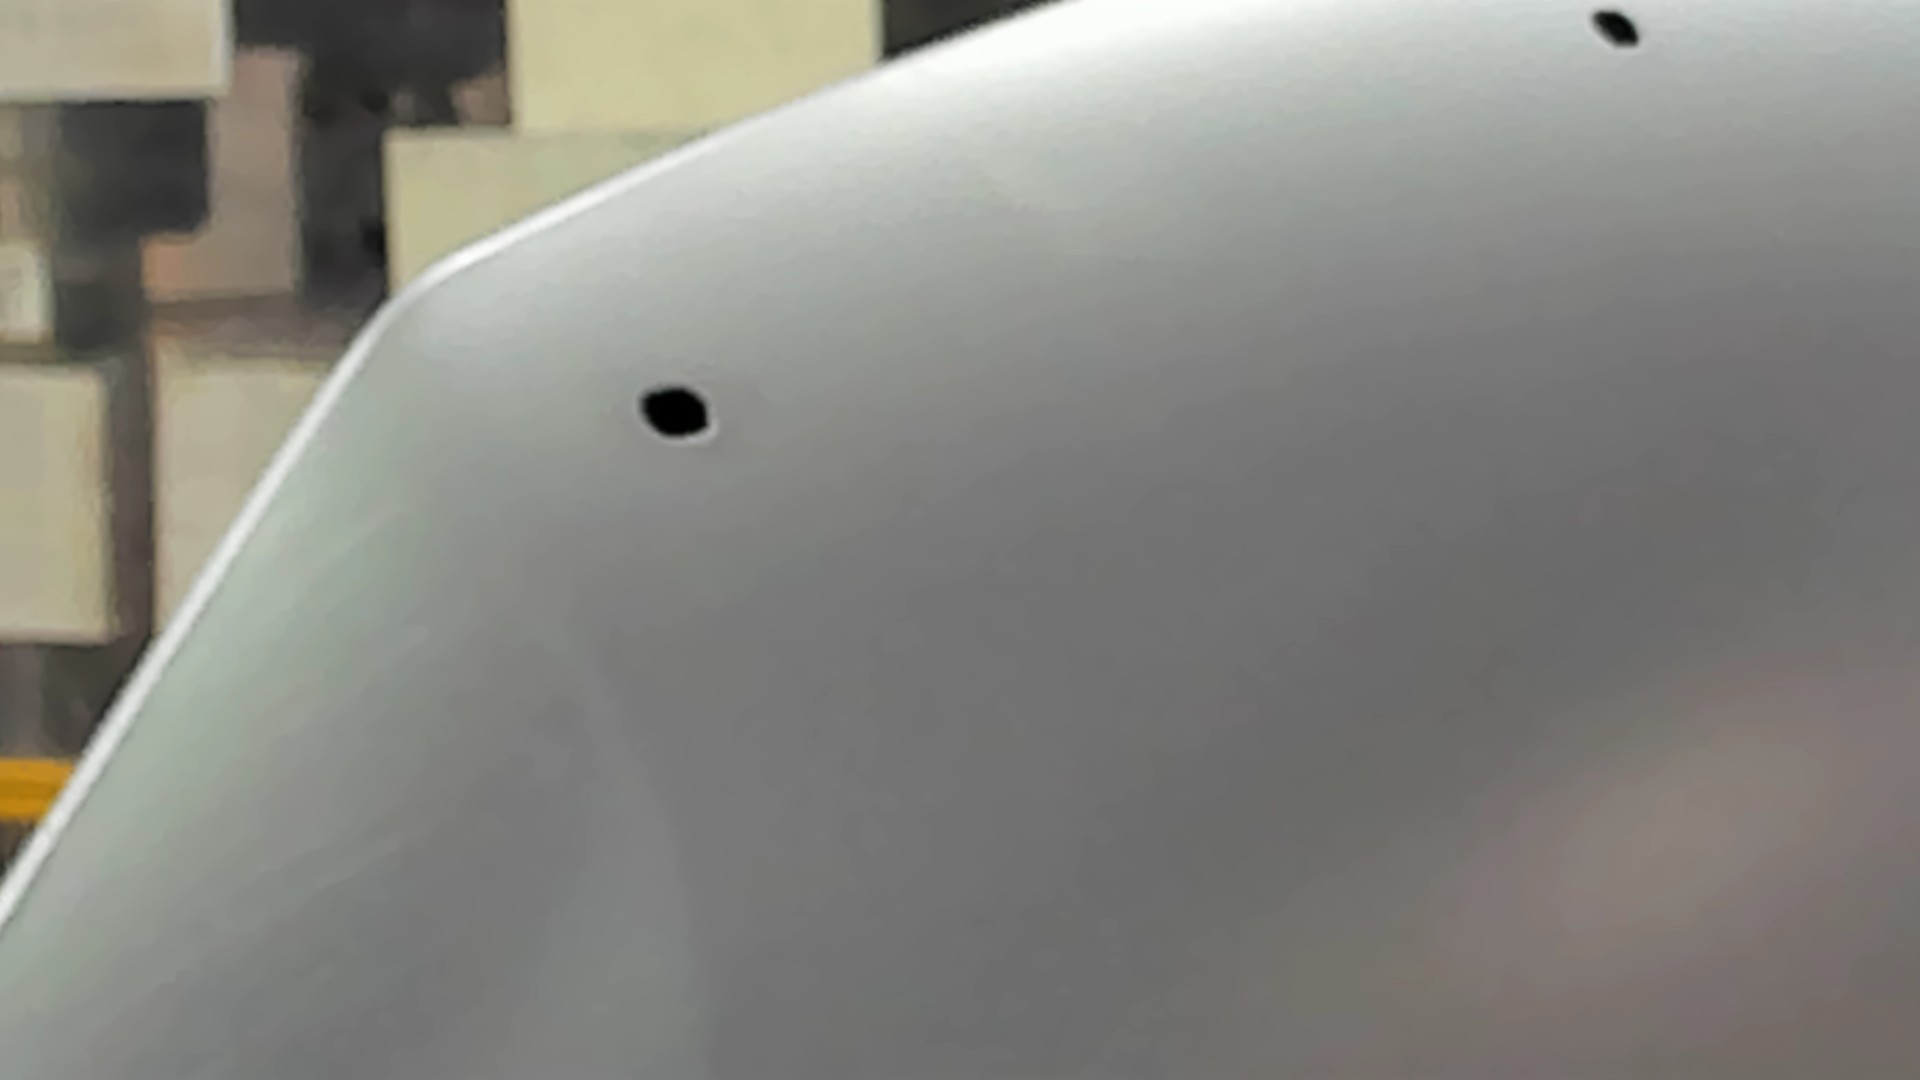amorfo: (638, 385, 721, 446), (1584, 9, 1647, 58)
